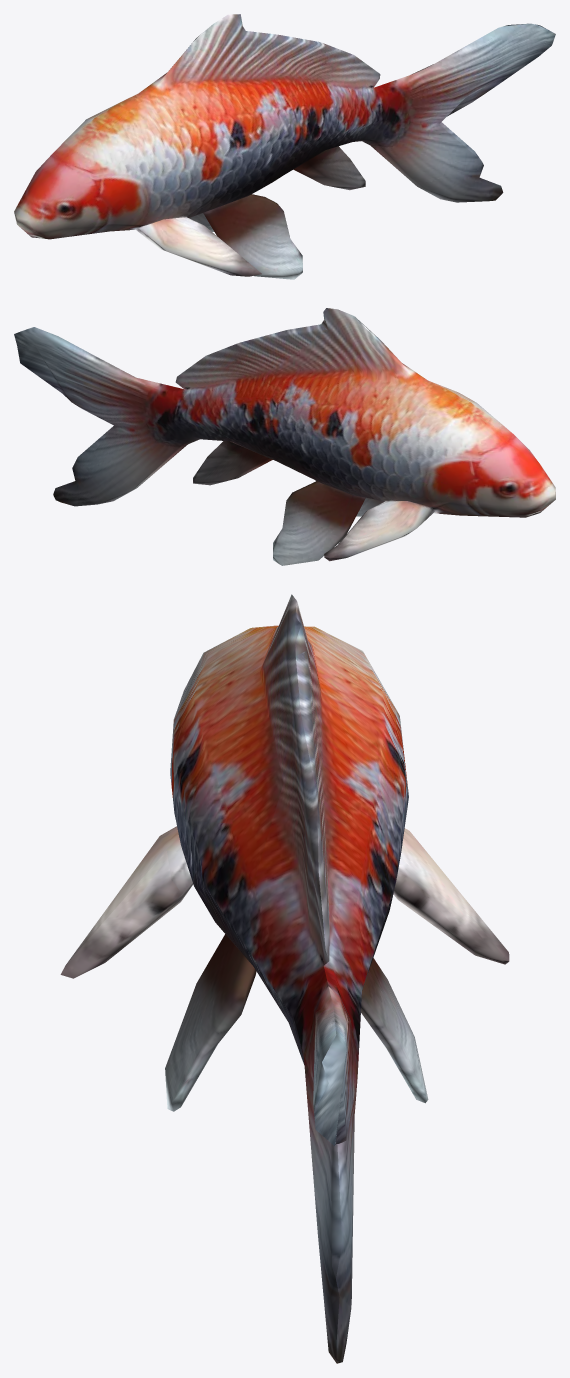
Rendered from koi_fish.glb.
The picture shows the model from 3 angles, top to bottom: view 1: azimuth 30°, elevation 25°; view 2: azimuth 150°, elevation 25°; view 3: azimuth 270°, elevation 25°; orthographic projection. The views are drawn at different scales.
Parts seen in each view (by area): view 1: koifish_0; view 2: koifish_0; view 3: koifish_0.
Part boxes in pixels (x1,y1,x2,y2): koifish_0: (14, 14, 555, 279); koifish_0: (14, 308, 555, 565); koifish_0: (60, 594, 509, 1363).
Size of the model in its own units: 6.39 by 2.89 by 2.34.
Materials: 1 (1 with a texture image).
